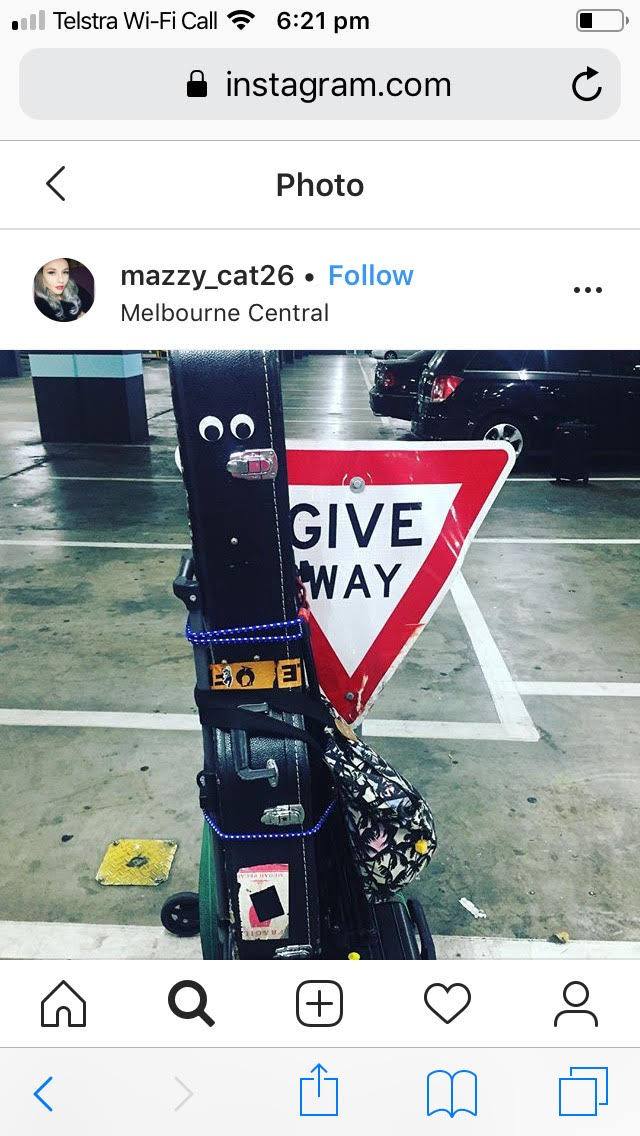giveway: (264, 425, 525, 737), (343, 439, 527, 736), (275, 523, 486, 716), (282, 473, 434, 714)
